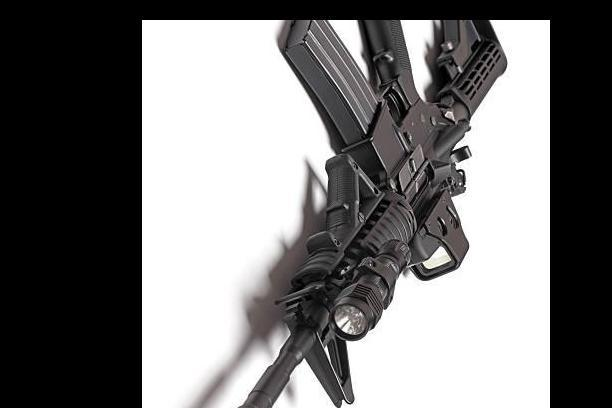larga: (238, 19, 507, 408)
